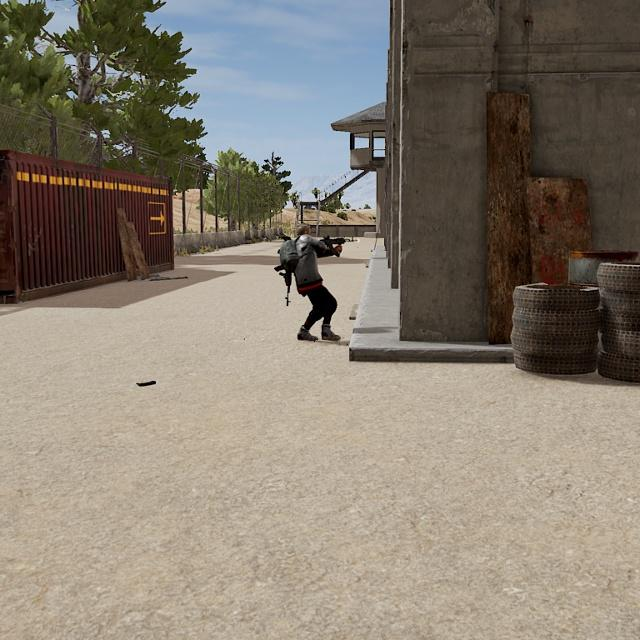head: (295, 223, 313, 240)
people: (284, 223, 342, 344)
